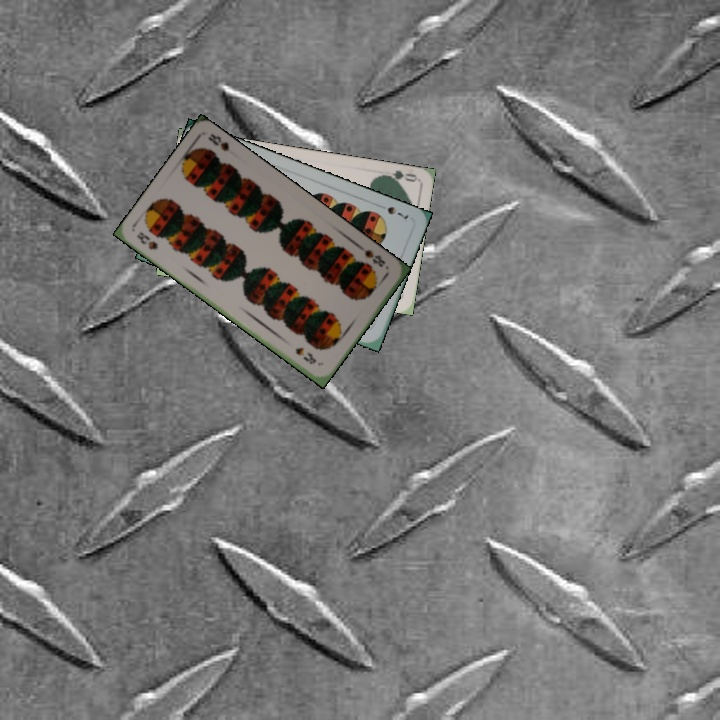GO: (377, 166, 418, 187)
S7: (374, 200, 411, 222)
S8: (356, 242, 388, 270), (132, 227, 161, 252)
